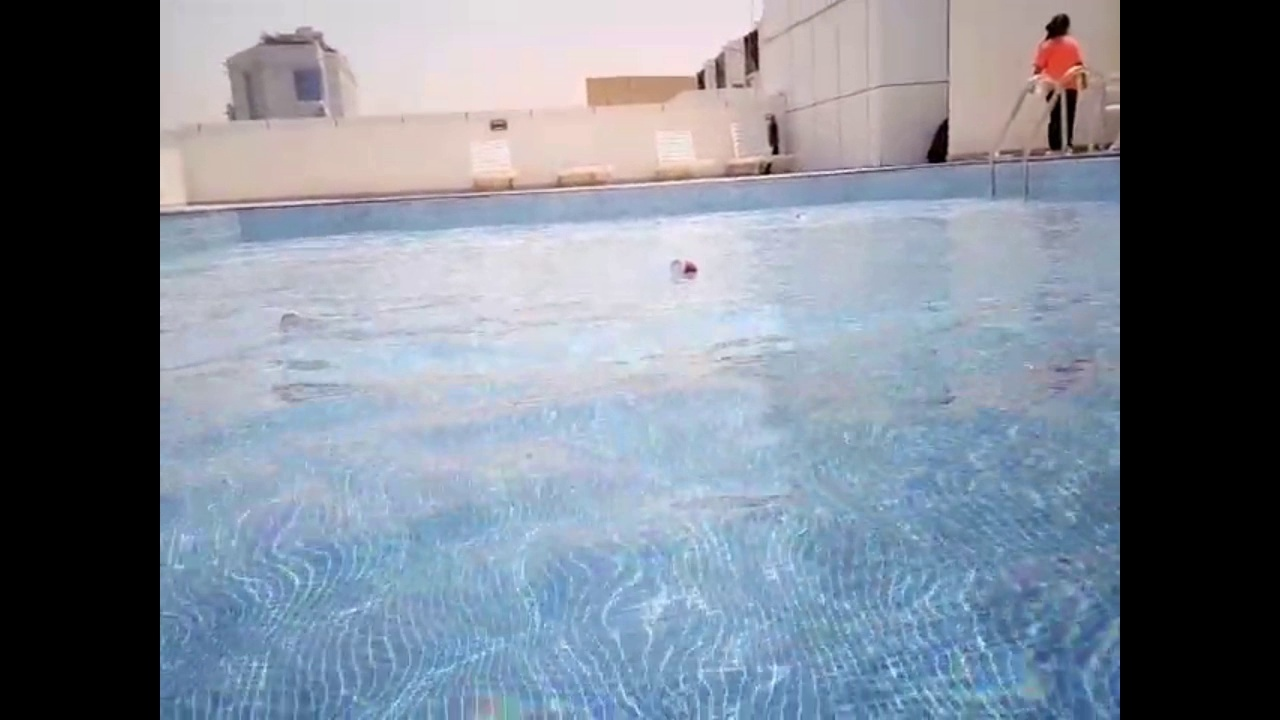debris: (661, 251, 705, 282), (272, 311, 308, 334), (792, 210, 809, 222)
